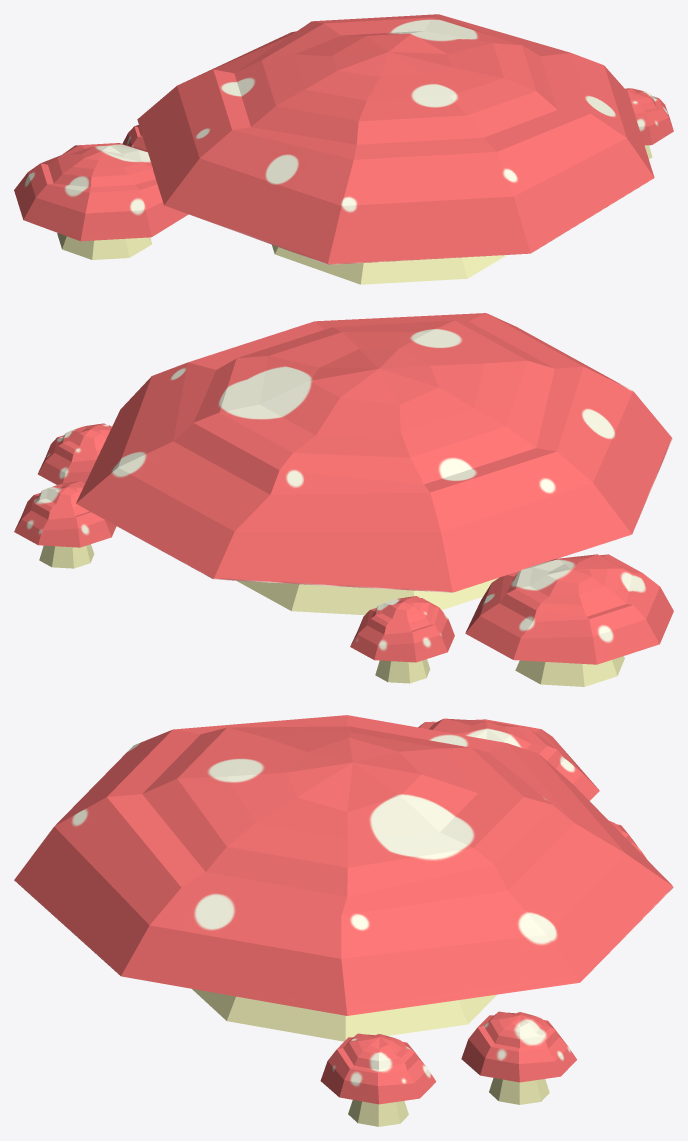
Rendered from Hongo.fbx.
3 views of the same model, one above another, from view 1: azimuth 30°, elevation 25°; view 2: azimuth 150°, elevation 25°; view 3: azimuth 270°, elevation 25° (orthographic). The views are drawn at different scales.
Visible parts, largest first — view 1: pSphere6; view 2: pSphere6; view 3: pSphere6.
Boxes of the visible parts, x1,y1,x2,y2 form: pSphere6: [14, 14, 673, 284]; pSphere6: [14, 313, 673, 686]; pSphere6: [14, 715, 673, 1126].
Size of the model in its own units: 0.8112 by 0.2216 by 0.6447.
1 material, 1 textured.
